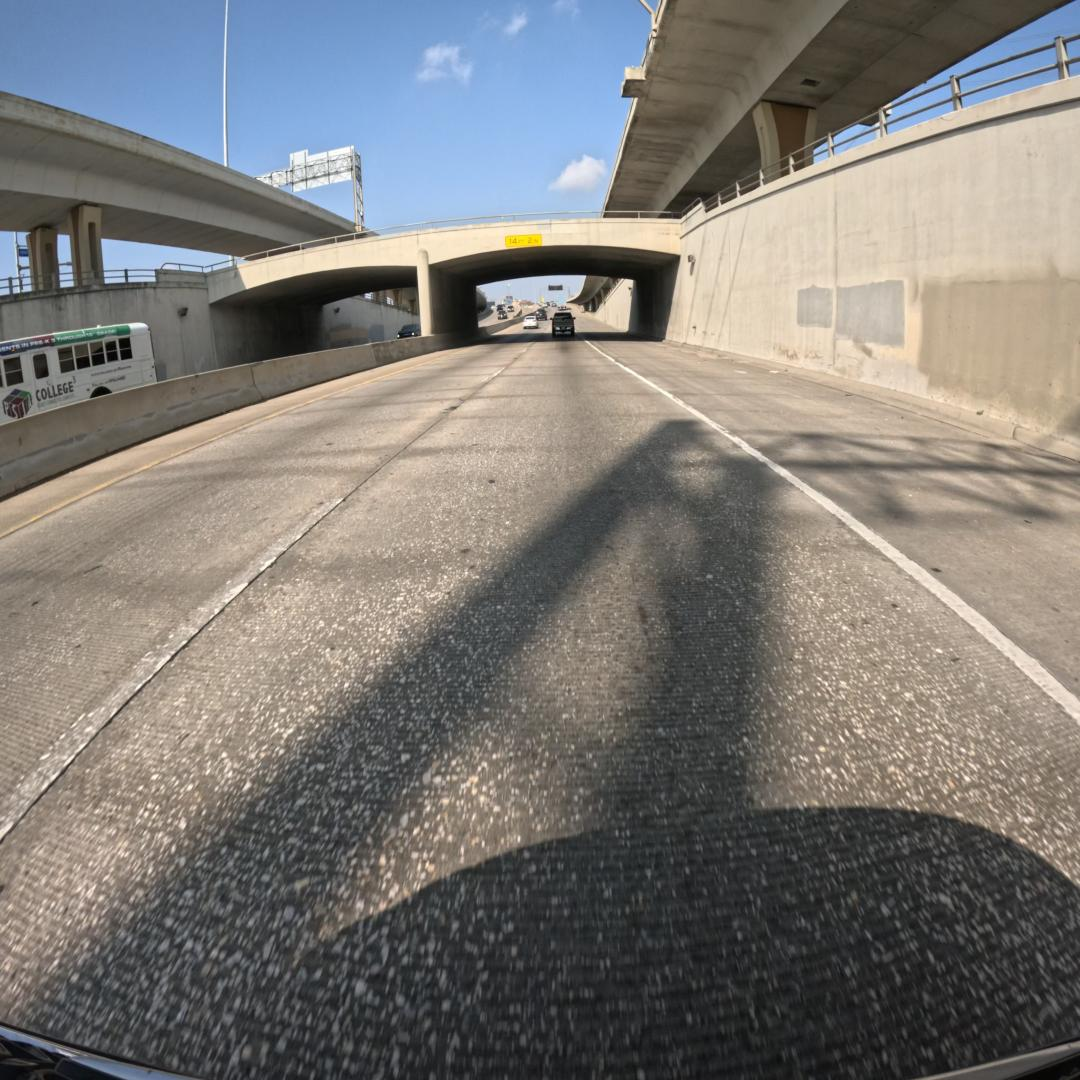lane0: (0, 343, 1080, 1080)
lane1: (0, 342, 526, 842)
